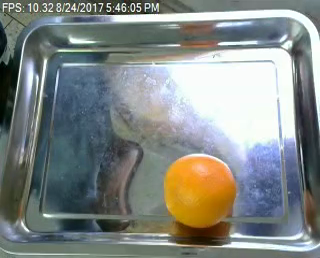Orange: (163, 151, 238, 228)
